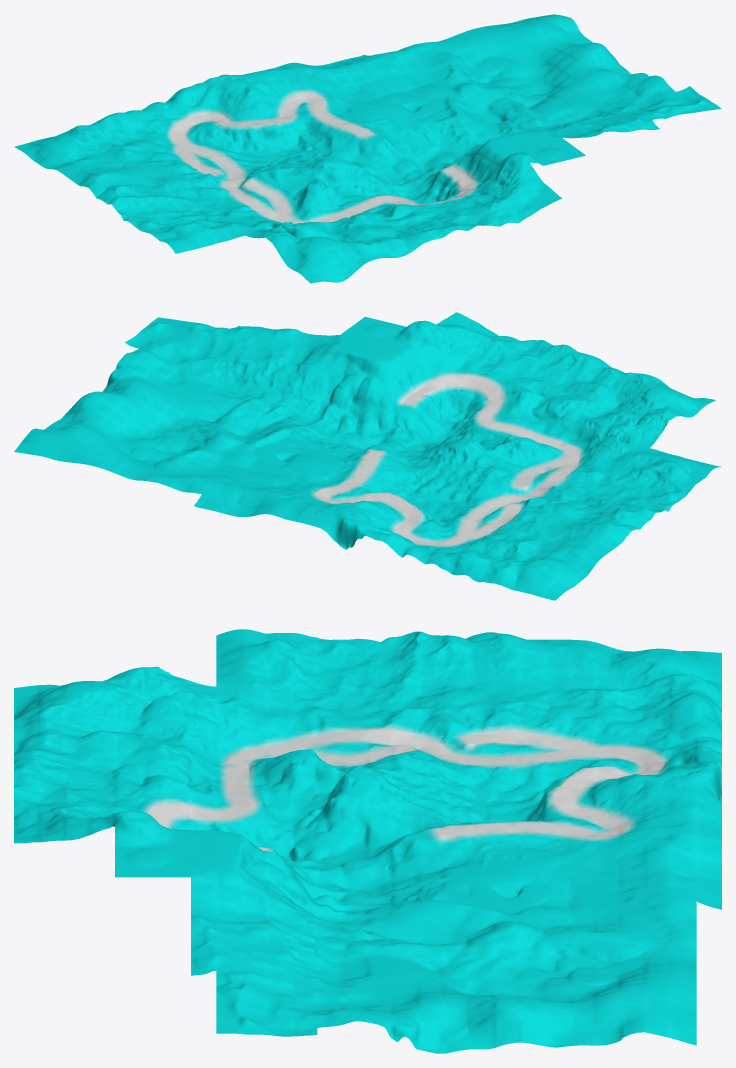
Rendered from SM_Landscape.fbx.
3 views of the same model, one above another, from view 1: azimuth 30°, elevation 25°; view 2: azimuth 150°, elevation 25°; view 3: azimuth 270°, elevation 25° (orthographic). The views are drawn at different scales.
Visible parts, largest first — view 1: clean1; view 2: clean1; view 3: clean1.
Boxes of the visible parts, box(x1,y1,x2,y2) form: clean1: box(14, 14, 721, 283); clean1: box(14, 312, 721, 600); clean1: box(14, 629, 721, 1053).
Size of the model in its own units: 1170 by 133 by 840.
